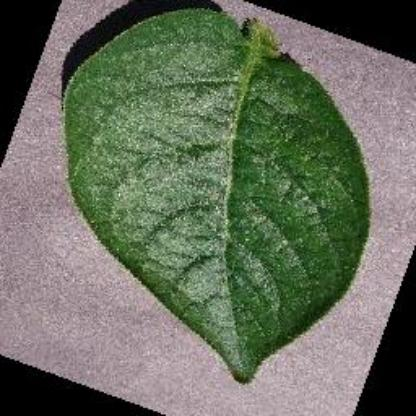Healthy-plant: (54, 5, 386, 384)
